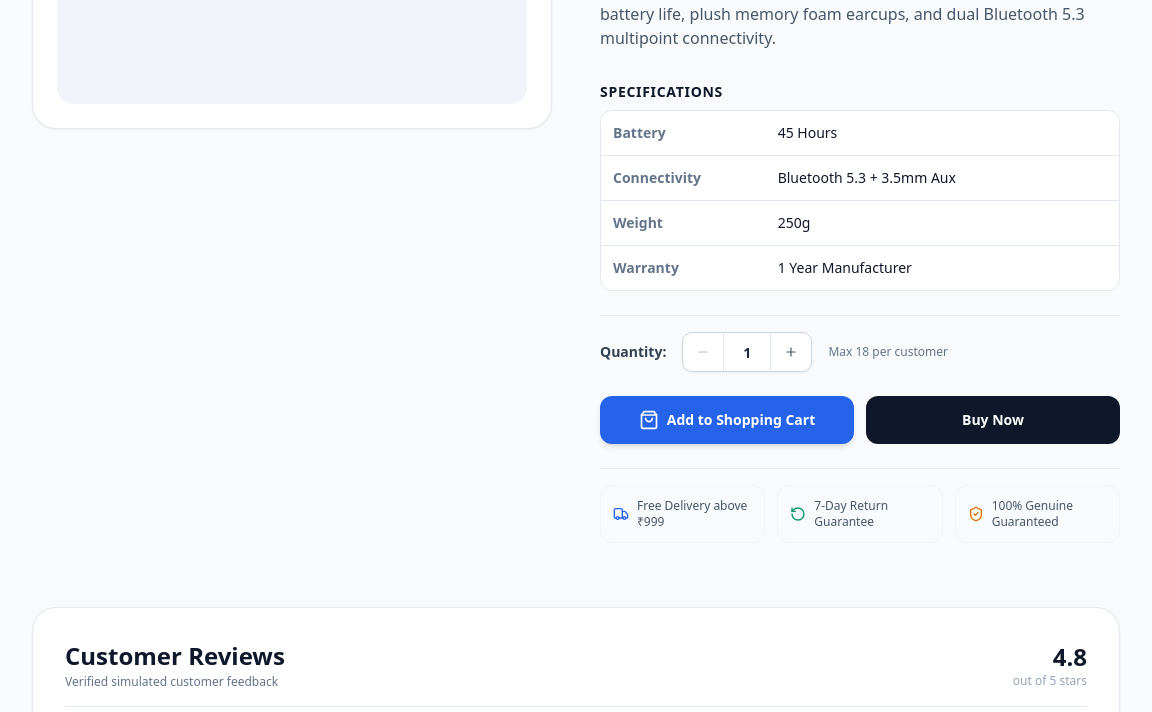
Test: Product Details Page › allows selecting quantity and adds product to cart with confirmation
(page scrolled)
Note: Increase quantity using the increment button
Click the button named "increase quantity" at x=791, y=352, box [771,333,811,371]
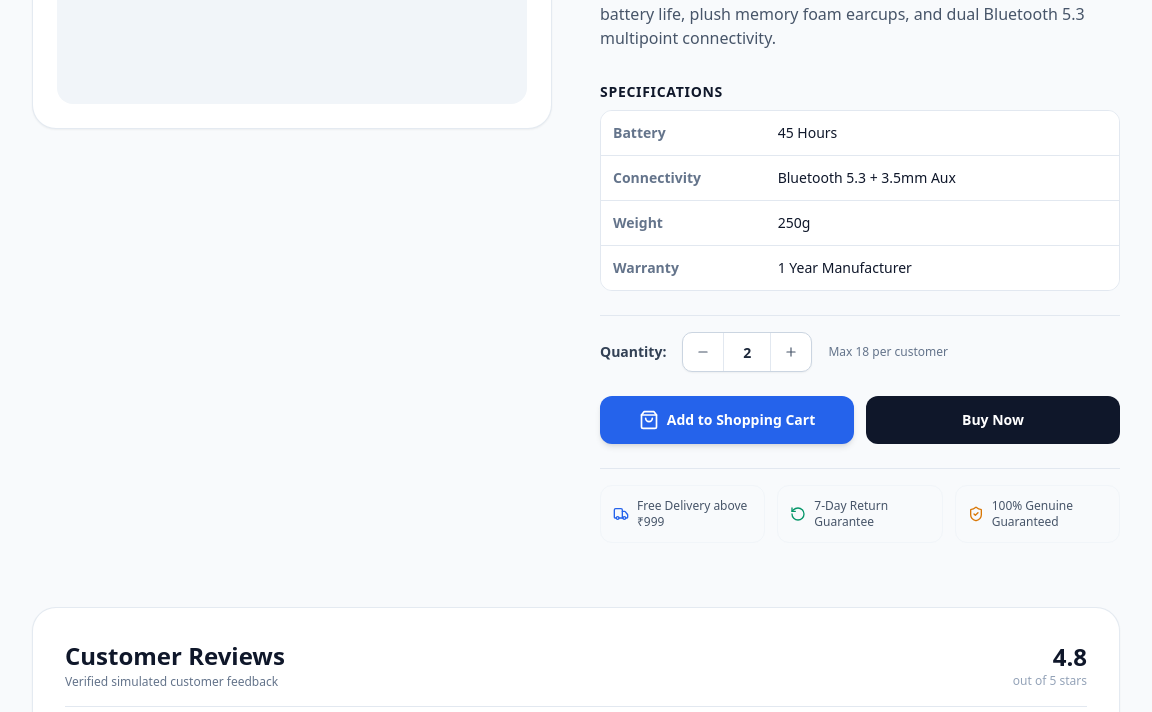
Check: the number field named "quantity of AuraSound Pro" holds "2", box [723,333,771,371]
Note: Click Add to Shopping Cart button
Click the button "Add to Shopping Cart" at x=727, y=420, box [600,396,854,444]
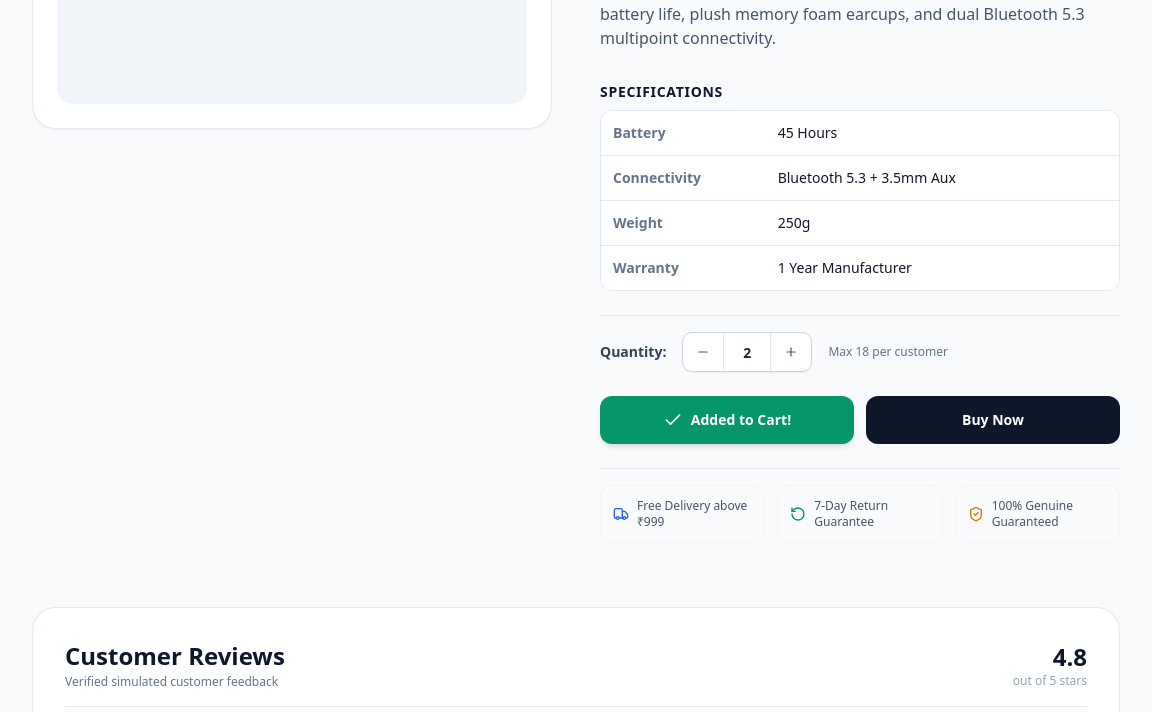
Check: the text "Added to Cart!" is shown, box [691,410,791,430]
